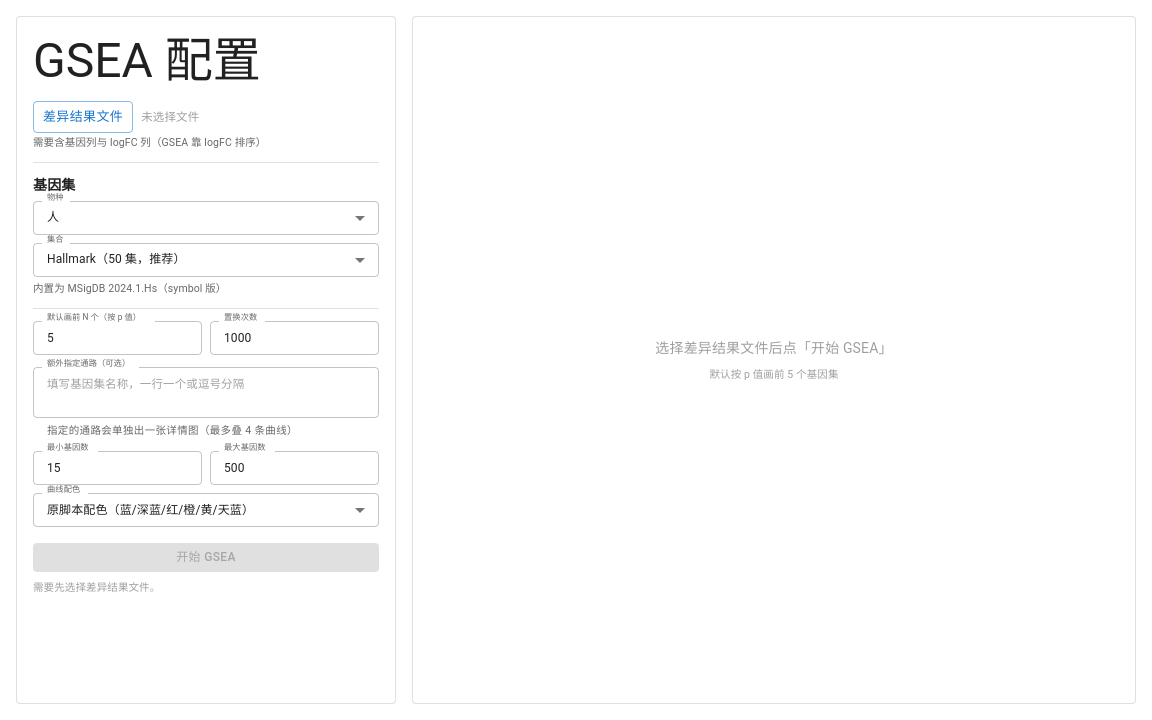
GseaPage › 选「自定义 GMT」时没有 GMT 文件不能开始
This screenshot has width=1152, height=720.
Click the button "差异结果文件" at (83, 117), box [33,101,133,133]
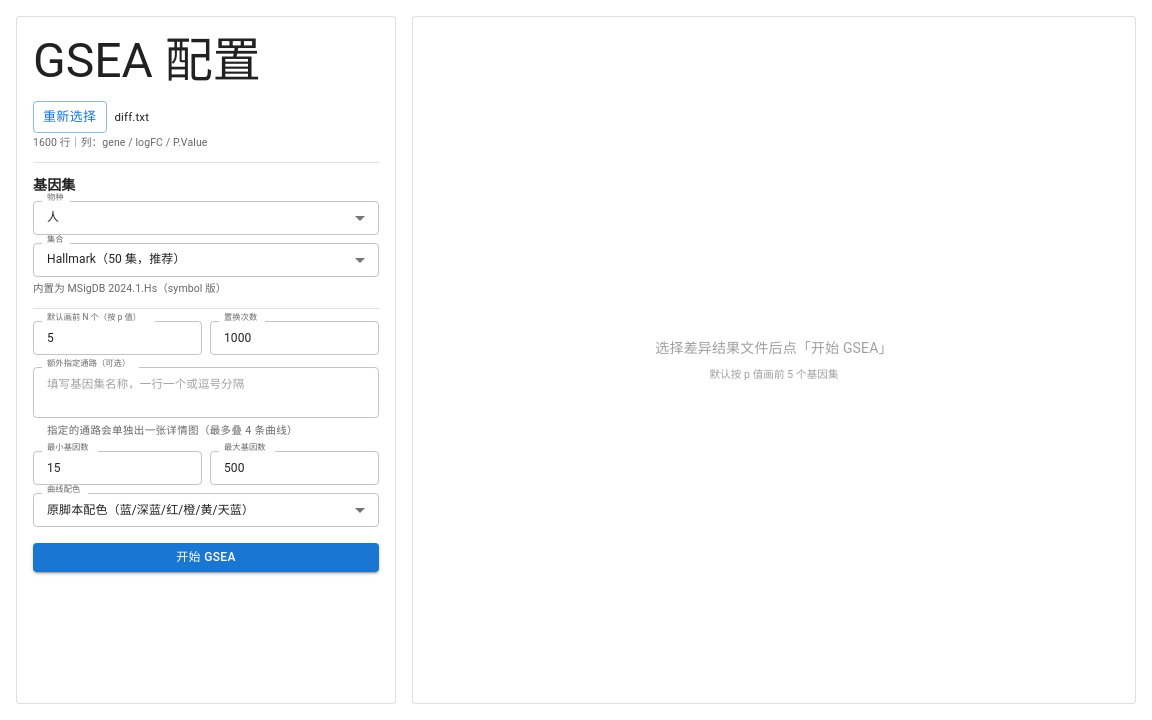
Now the text "1600 行｜列：gene / logFC / P.Value" is shown, box [33,136,208,149]
Now the button "开始 GSEA" is enabled, box [33,544,379,572]
Select "自定义 GMT" in the dropdown labelled "物种" at (206, 218), box [33,201,379,235]
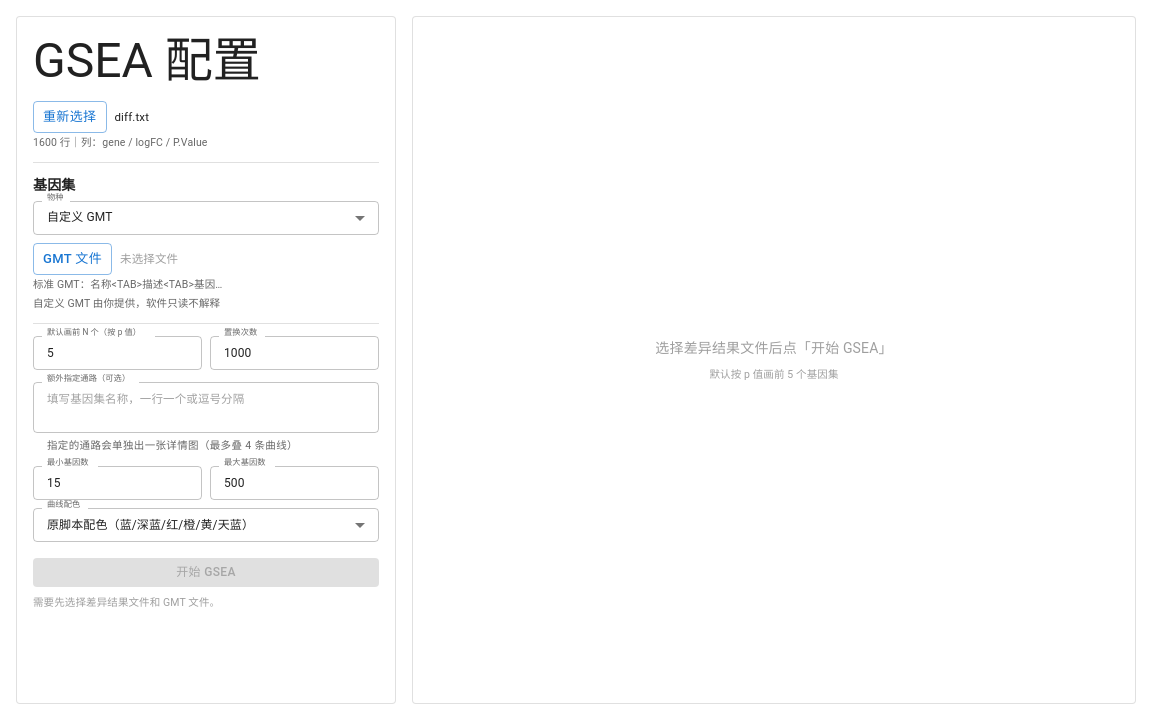
Now the button "GMT 文件" is shown, box [33,243,112,275]
Now the button "开始 GSEA" is disabled, box [33,558,379,588]
